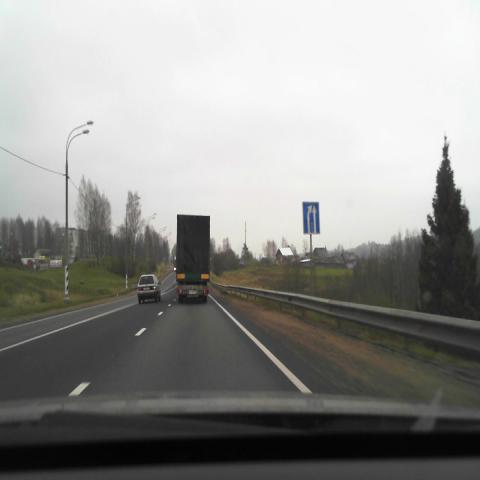5_15_5: (302, 200, 320, 234)
